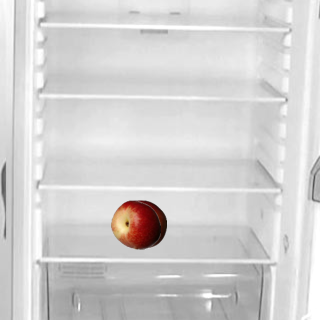Apple Braeburn: (116, 199, 166, 249)
Nectarine: (110, 199, 160, 249)
